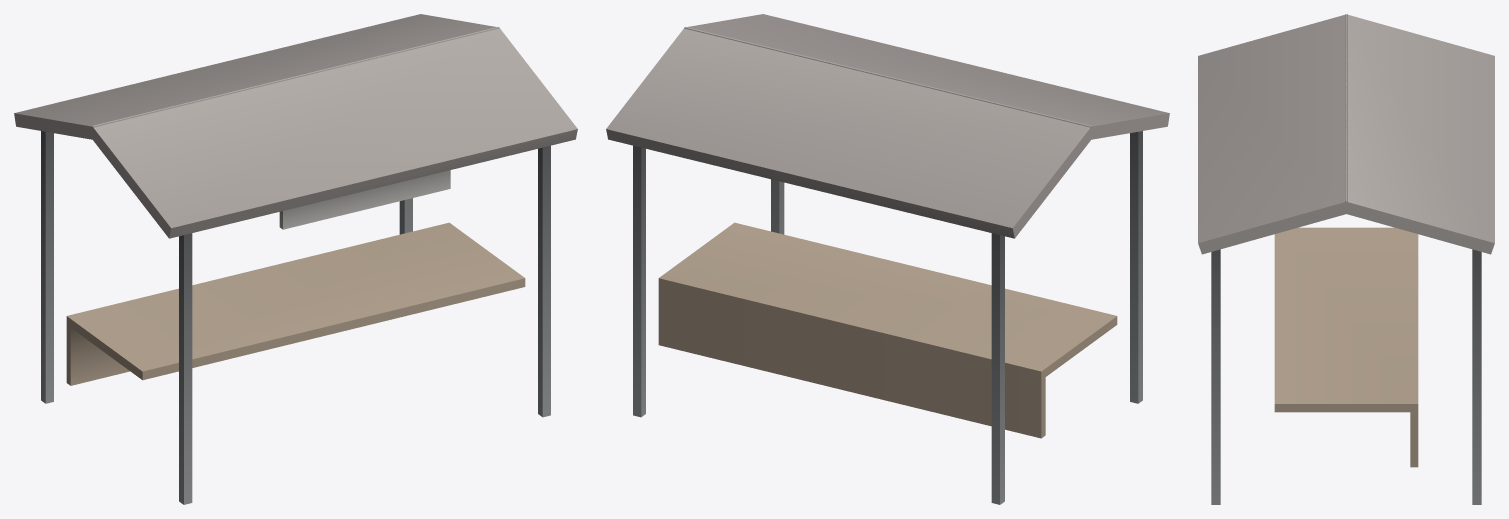
Rendered from market_stall.lod1.glb.
The picture shows the model from 3 angles, left to right: view 1: azimuth 30°, elevation 25°; view 2: azimuth 150°, elevation 25°; view 3: azimuth 270°, elevation 25°; orthographic projection. The views are drawn at different scales.
Visible parts, largest first — view 1: props_market_stall.lod1; view 2: props_market_stall.lod1; view 3: props_market_stall.lod1.
Boxes of the visible parts, <box> form: props_market_stall.lod1: <box>14,14,577,504</box>; props_market_stall.lod1: <box>606,14,1169,504</box>; props_market_stall.lod1: <box>1198,14,1494,504</box>.
Bounding box in the file's own units: 3.4 × 2.65 × 2.28.
